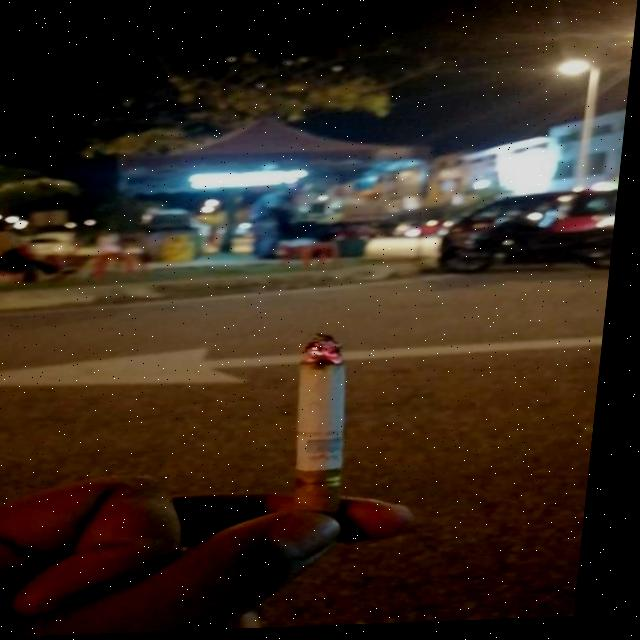cigarette: (293, 334, 367, 525)
